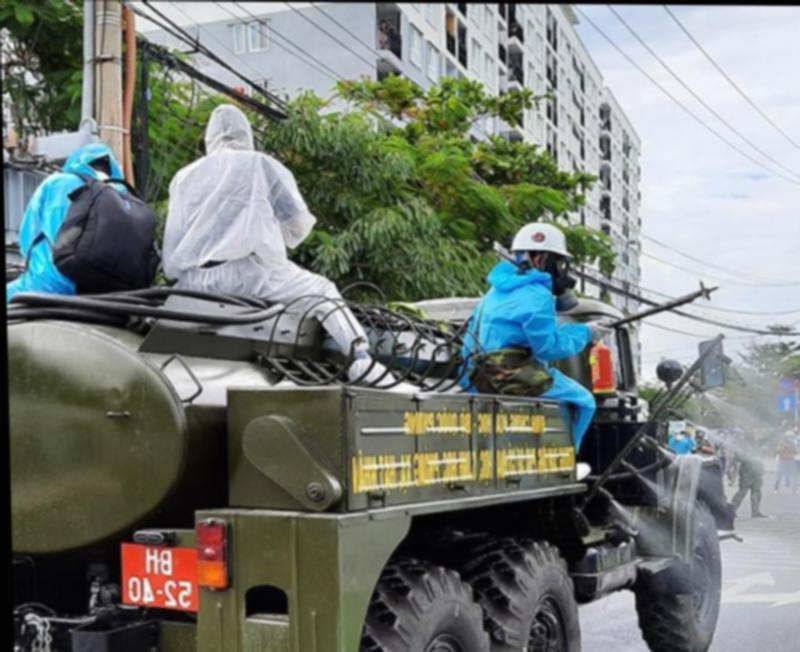License_Plate: (116, 542, 202, 614)
